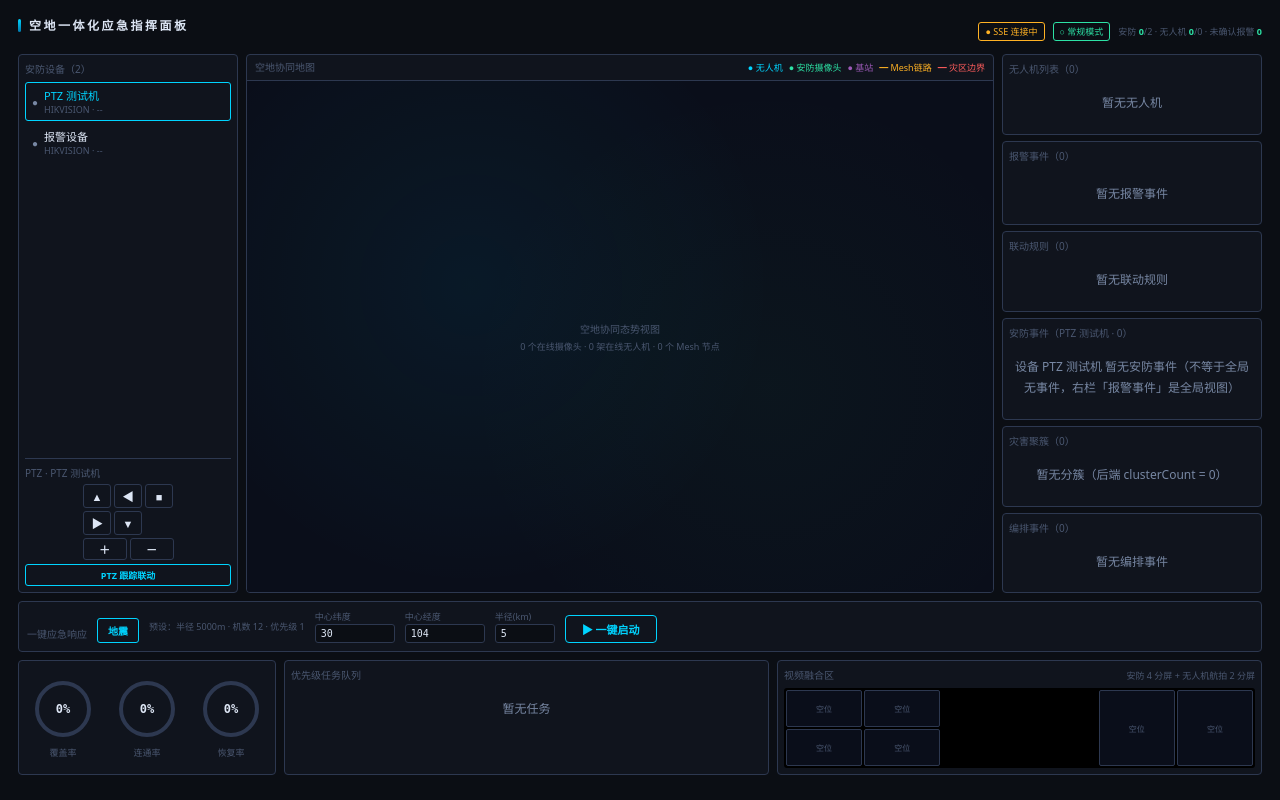
Test: #107 能力门控：前端按后端的能力位禁用 PTZ › 切到不支持 PTZ 的设备后按钮转为禁用
Check: the button "地震" is shown, box [97,618,139,643]
Check: the button titled "上" is enabled, box [83,484,111,508]
Click the text "报警设备" at {"x": 66, "y": 136}, box [44,129,88,144]
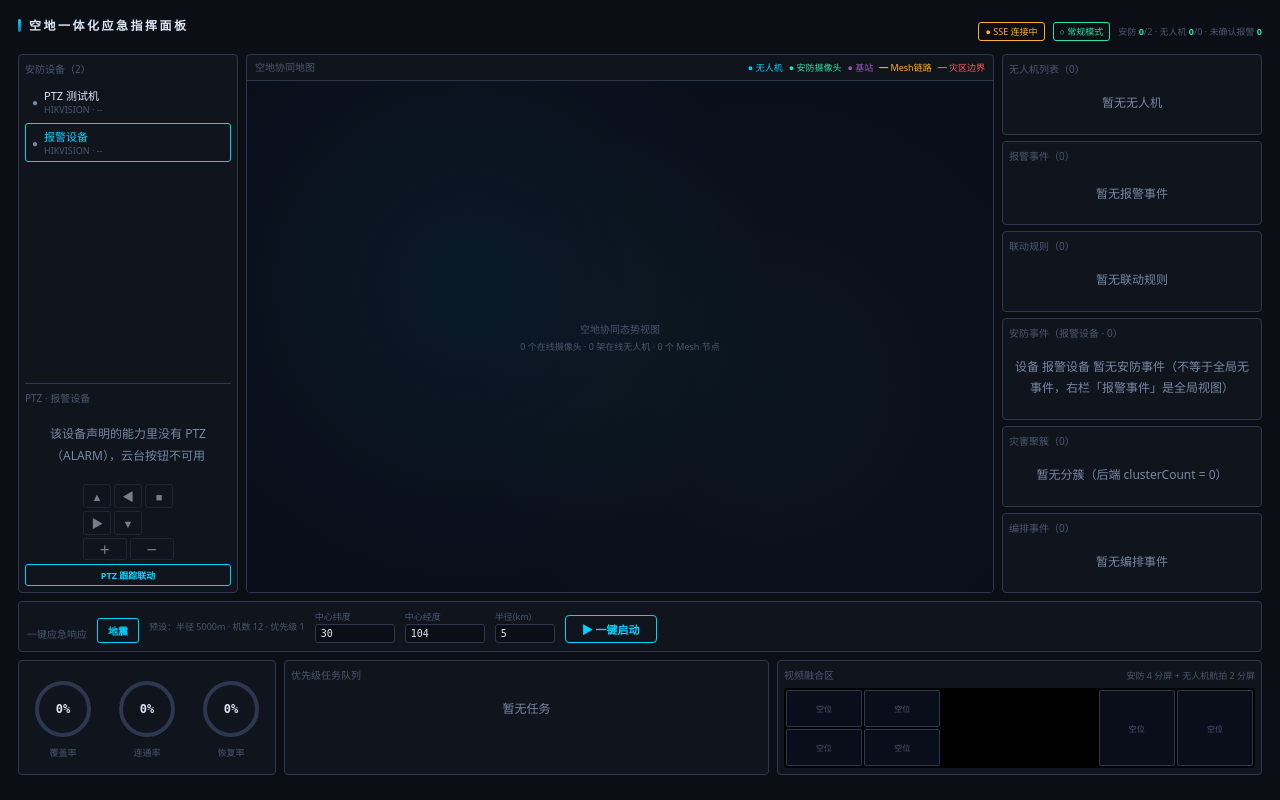
Check: the text "该设备声明的能力里没有 PTZ（ALARM），云台按钮不可用" is shown, box [50,425,206,464]
Check: the button titled "设备不支持云台控制" is disabled, box [83,484,111,508]
